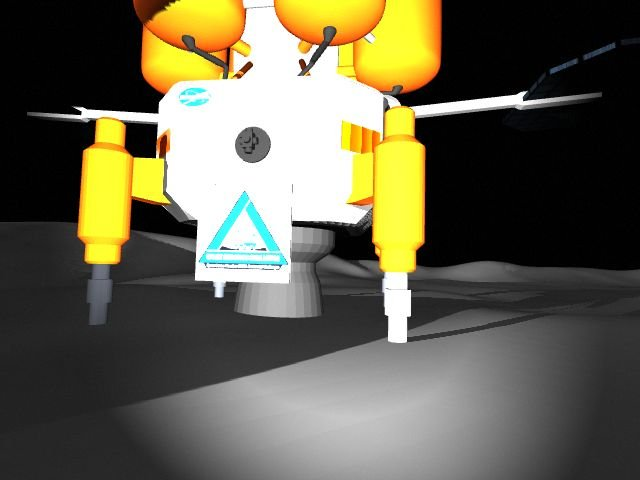basemarker: (197, 190, 289, 271)
